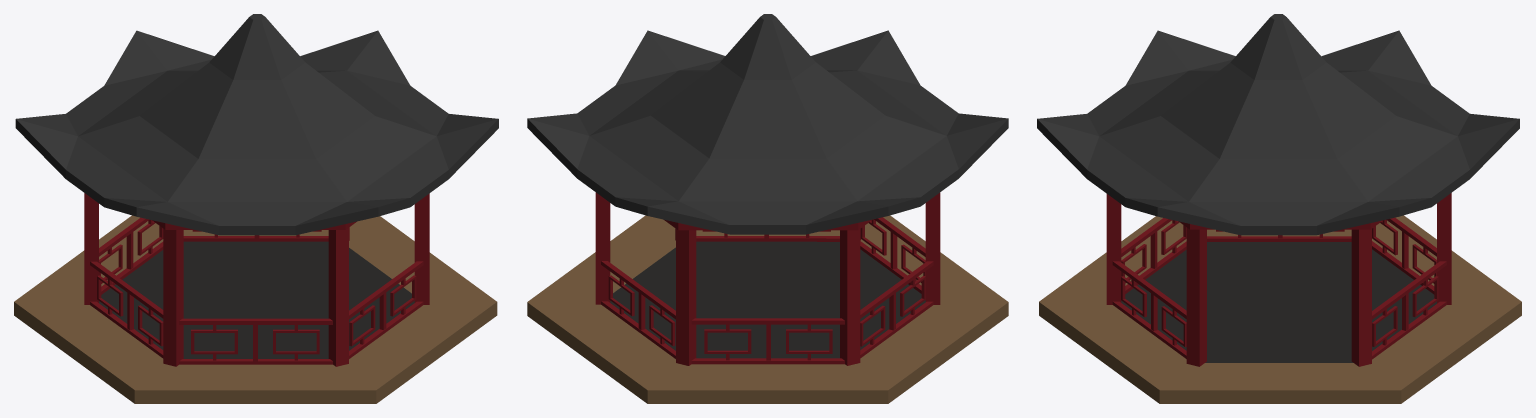
Rendered from Gazebo.fbx.
The picture shows the model from 3 angles, left to right: view 1: azimuth 30°, elevation 25°; view 2: azimuth 150°, elevation 25°; view 3: azimuth 270°, elevation 25°; orthographic projection.
Visible parts, largest first — view 1: Cylinder.059; view 2: Cylinder.059; view 3: Cylinder.059.
Boxes of the visible parts, box(x1,y1,x2,y2) form: Cylinder.059: box(14, 14, 498, 403); Cylinder.059: box(527, 14, 1008, 403); Cylinder.059: box(1037, 14, 1521, 403).
Size of the model in its own units: 745 by 586 by 862.
